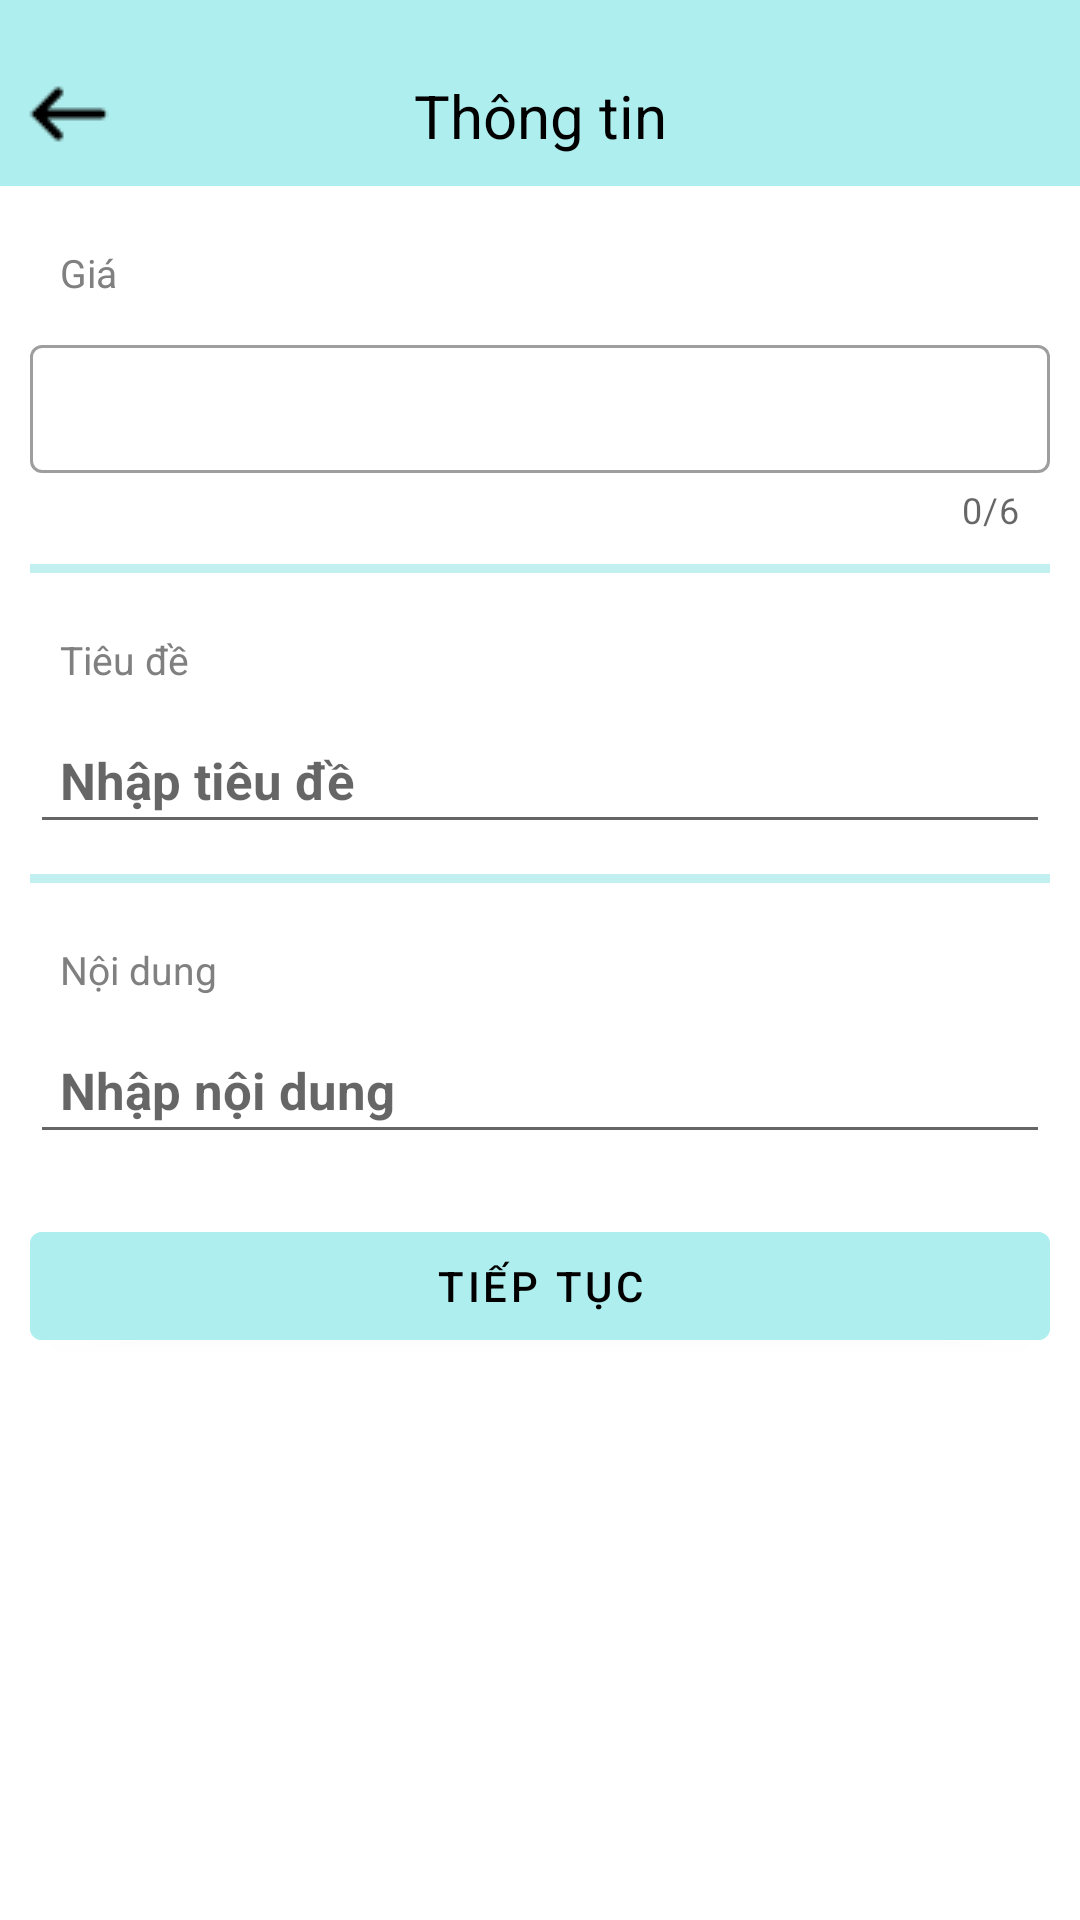

Icons on this 1080 × 1920 Android screen, each with its box as (x1, y1, x2, y2):
back: (30, 86, 107, 142)
